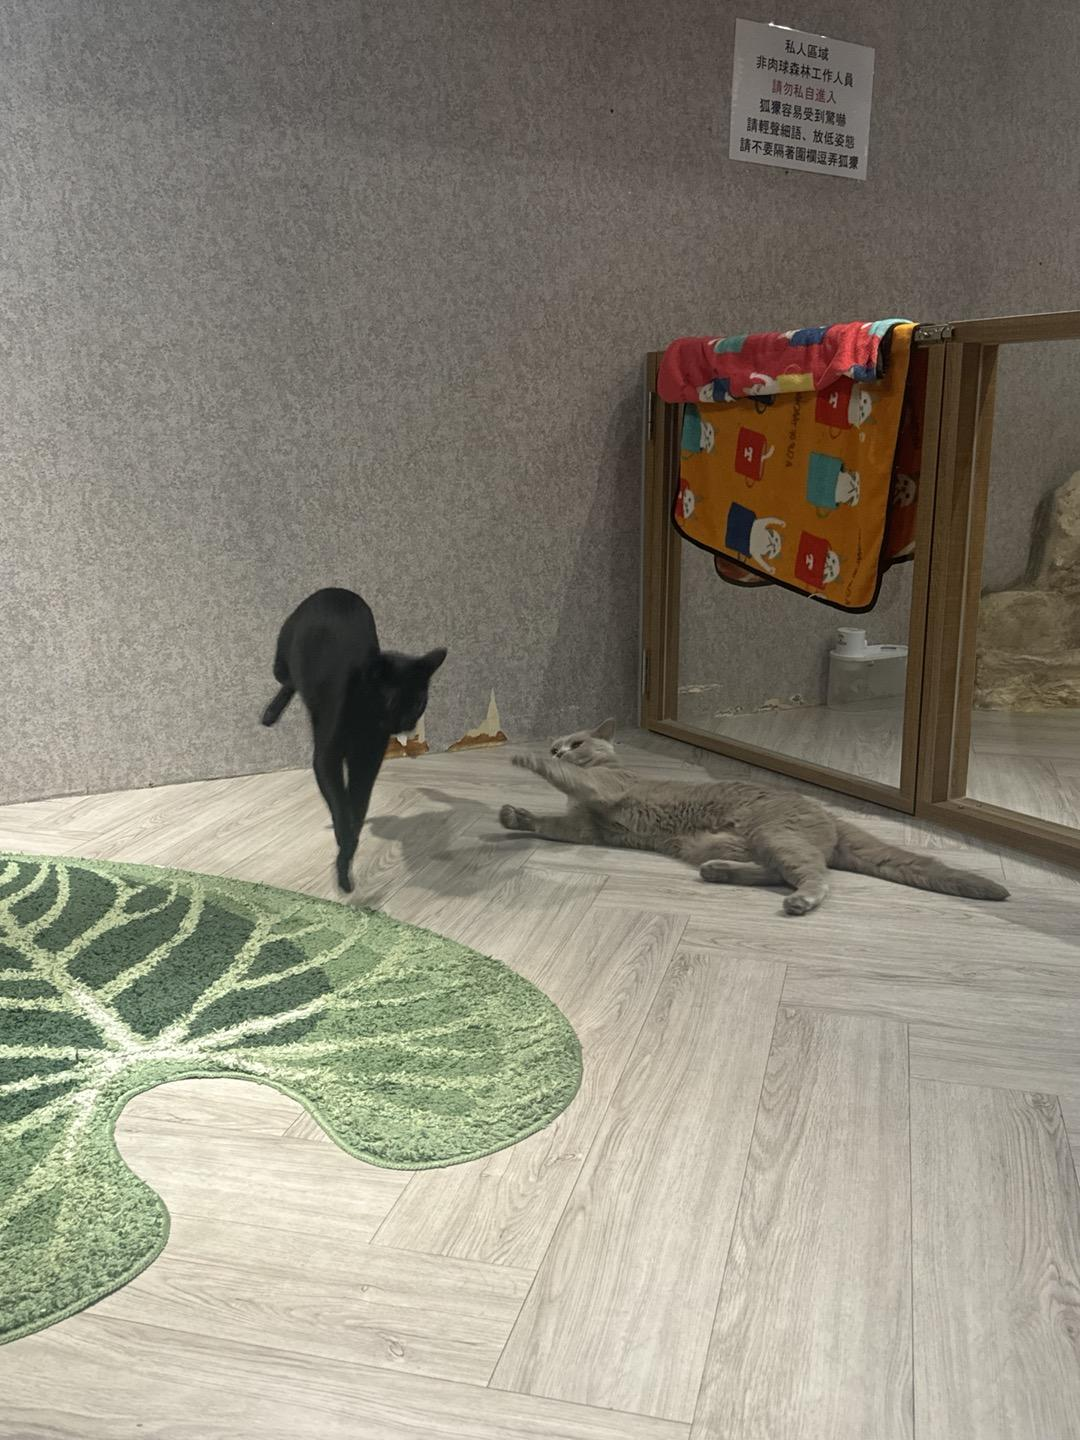cat: (498, 715, 1011, 916), (259, 584, 448, 893)
